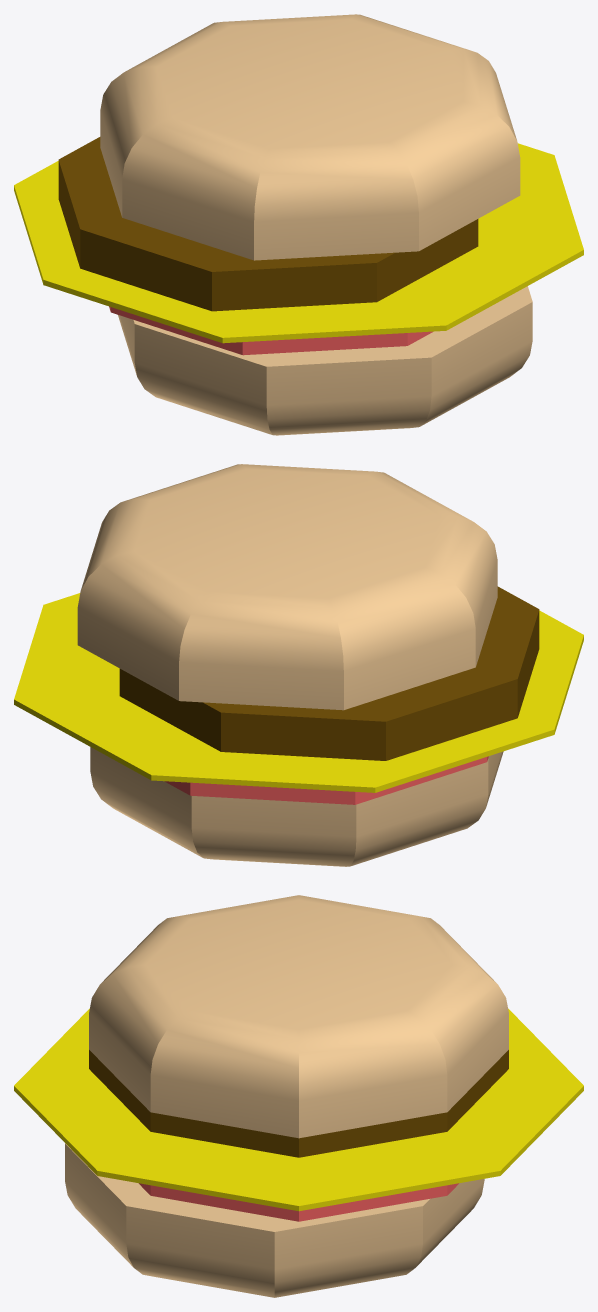
Rendered from Burger.001.fbx.
The picture shows the model from 3 angles, top to bottom: view 1: azimuth 30°, elevation 25°; view 2: azimuth 150°, elevation 25°; view 3: azimuth 270°, elevation 25°; orthographic projection. The views are drawn at different scales.
Parts seen in each view (by area): view 1: Burger.001; view 2: Burger.001; view 3: Burger.001.
Boxes of the visible parts, x1,y1,x2,y2 form: Burger.001: (14,14,583,435); Burger.001: (14,464,583,866); Burger.001: (14,895,583,1297).
Bounding box in the file's own units: 19.01 × 9.69 × 19.01.
